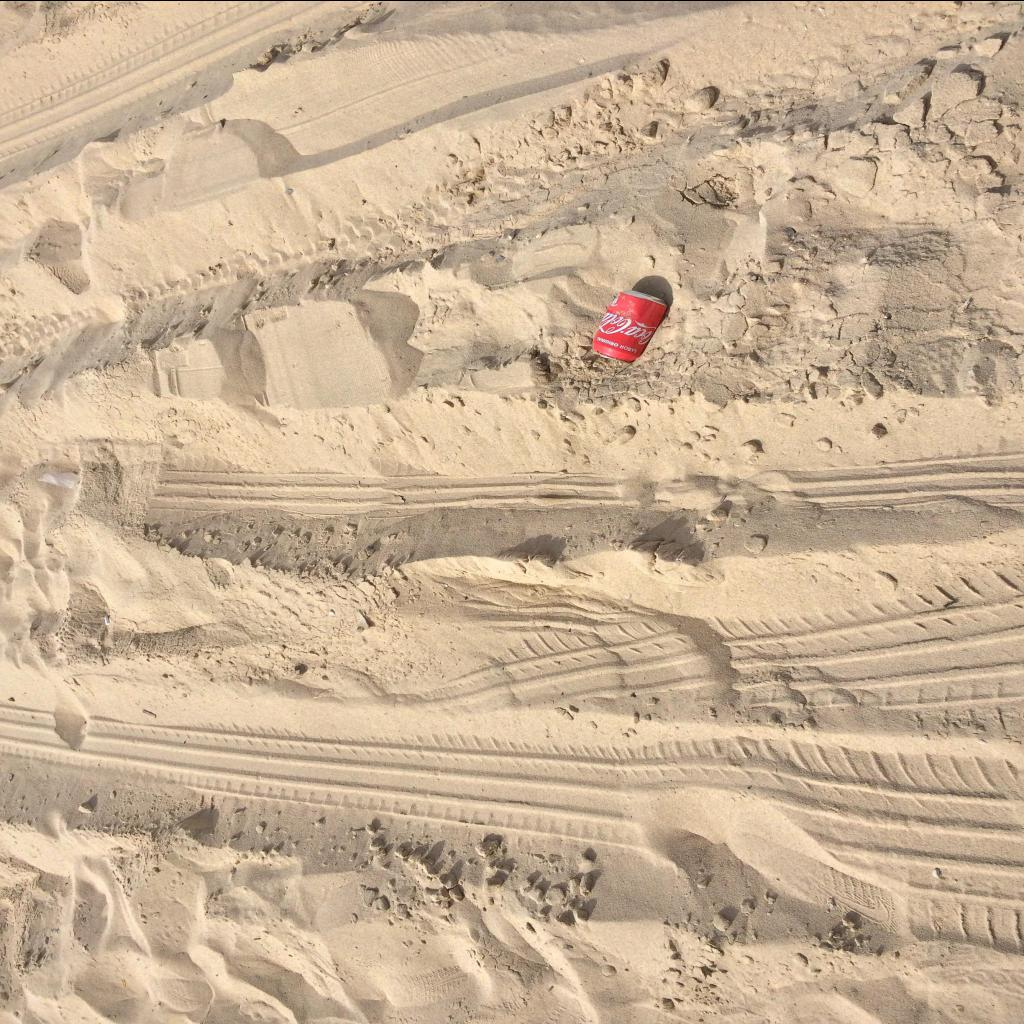Drink can: (592, 289, 668, 363)
Plastic film: (38, 470, 80, 488)
